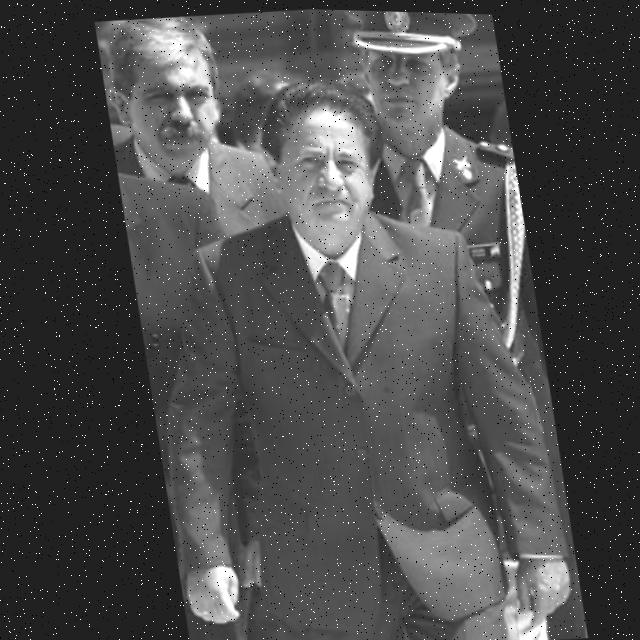face: (261, 102, 388, 261), (102, 44, 235, 174), (332, 37, 484, 145)
